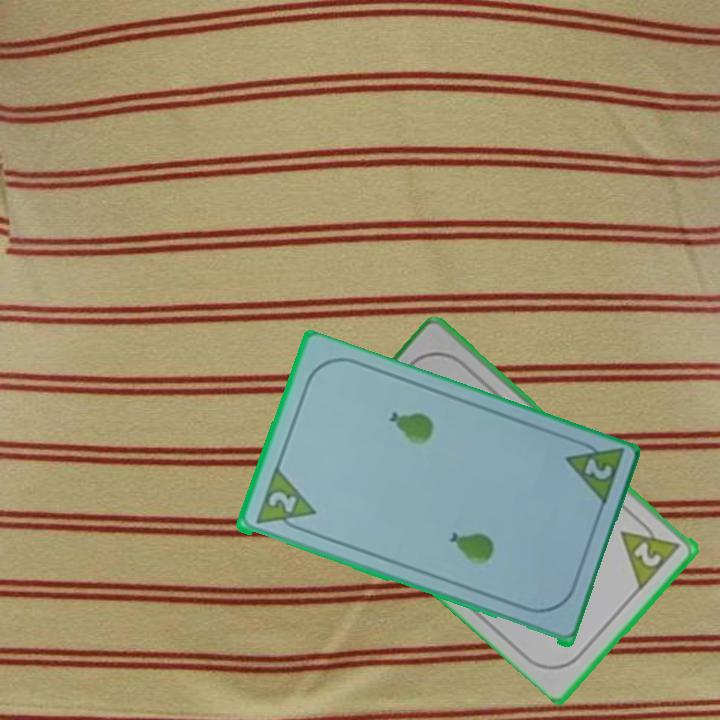2p: (617, 512, 684, 592), (560, 435, 626, 511), (264, 488, 299, 517)
